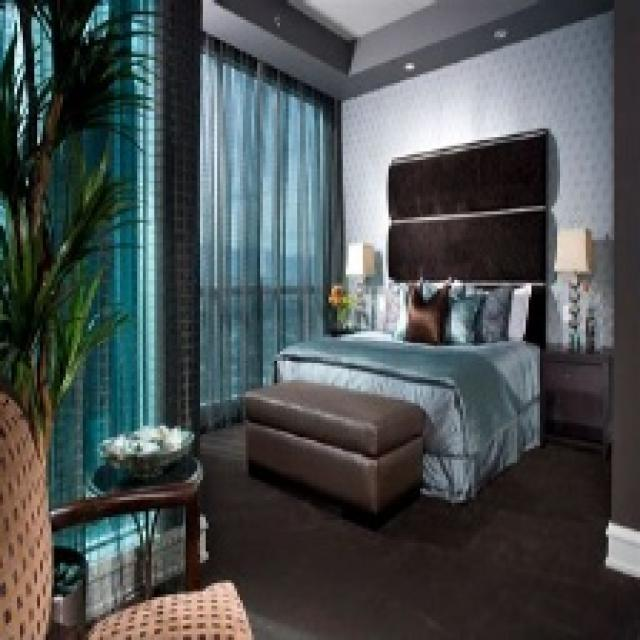Bed: (272, 126, 552, 503)
